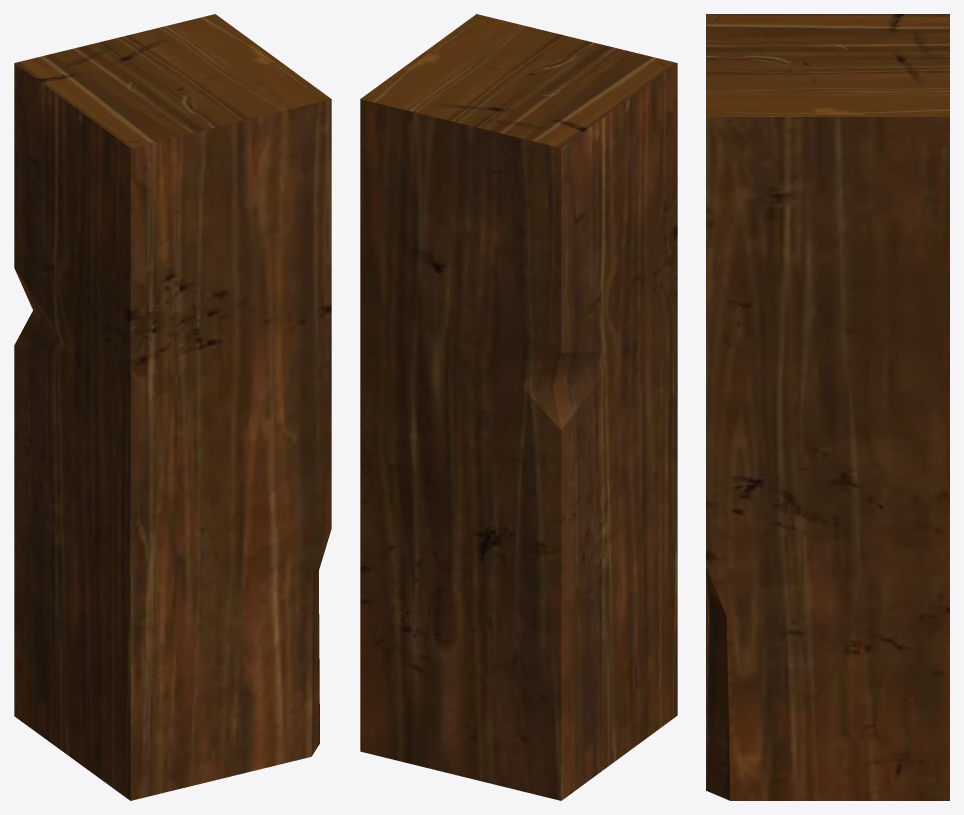
3 renders of one model, left to right at view 1: azimuth 30°, elevation 25°; view 2: azimuth 150°, elevation 25°; view 3: azimuth 270°, elevation 25°, orthographic. The views are drawn at different scales.
Visible parts, largest first — view 1: SM_BB_T2_Beam_Thick_Med_Horizontal_LOD0; view 2: SM_BB_T2_Beam_Thick_Med_Horizontal_LOD0; view 3: SM_BB_T2_Beam_Thick_Med_Horizontal_LOD0.
Part boxes in pixels (x1,y1,x2,y2): SM_BB_T2_Beam_Thick_Med_Horizontal_LOD0: (14,14,331,800); SM_BB_T2_Beam_Thick_Med_Horizontal_LOD0: (360,14,677,800); SM_BB_T2_Beam_Thick_Med_Horizontal_LOD0: (706,14,949,800).
Bounding box in the file's own units: 0.4866 × 1.51 × 0.4873.
